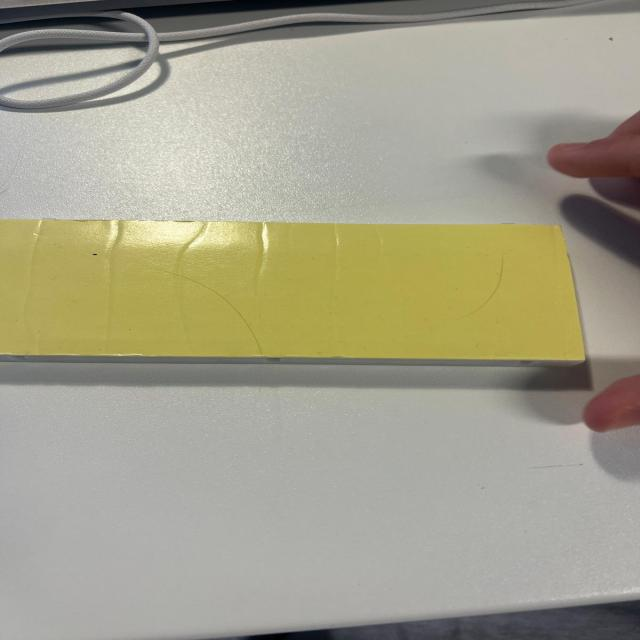BreadBoard: (13, 210, 612, 376)
